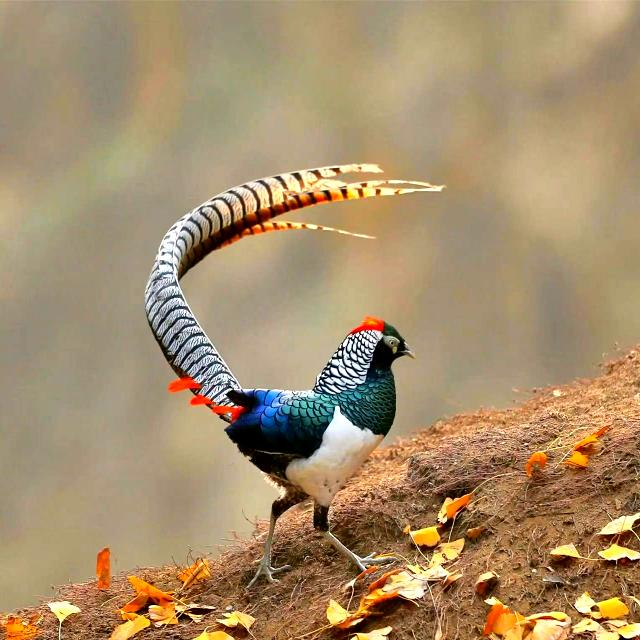Chrysolophus amherstiae: (145, 164, 443, 405)
